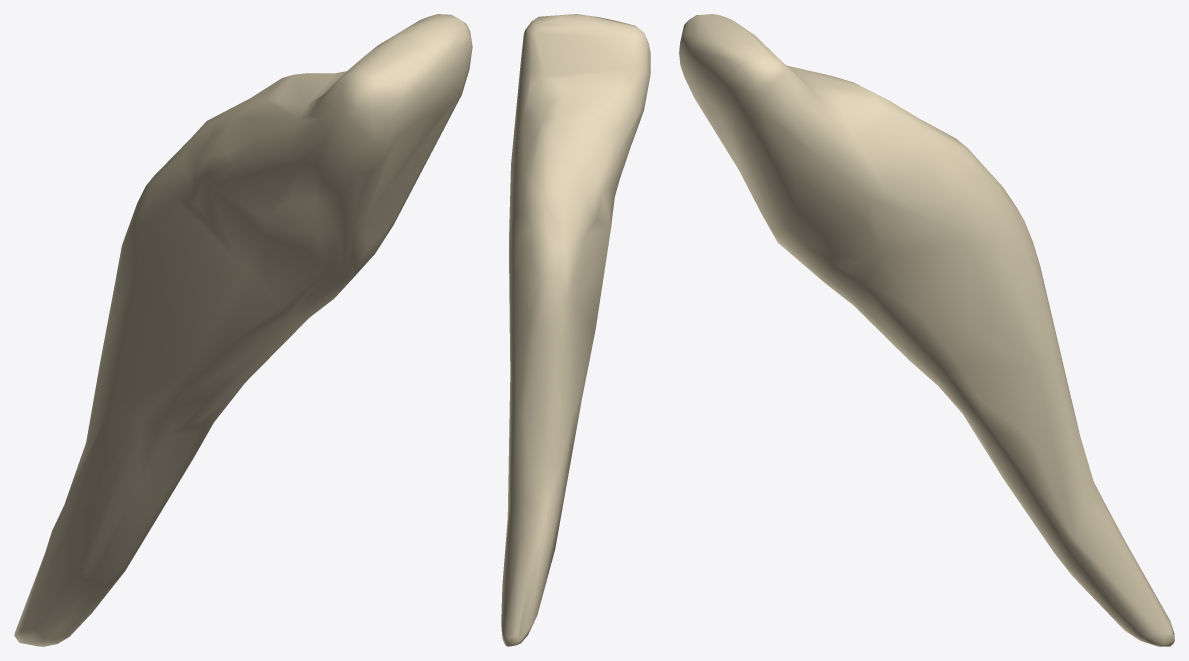
The model's file is esqueleto-lower-lateral-incisor-l.glb.
3 renders of one model, left to right at view 1: azimuth 30°, elevation 25°; view 2: azimuth 150°, elevation 25°; view 3: azimuth 270°, elevation 25°, orthographic. The views are drawn at different scales.
Parts seen in each view (by area): view 1: Lower lateral incisor.l; view 2: Lower lateral incisor.l; view 3: Lower lateral incisor.l.
Part boxes in pixels (<box>): Lower lateral incisor.l: <box>14,14,472,646</box>; Lower lateral incisor.l: <box>501,14,650,646</box>; Lower lateral incisor.l: <box>679,14,1174,646</box>.
Bounding box in the file's own units: 0.00769 × 0.0245 × 0.0164.
